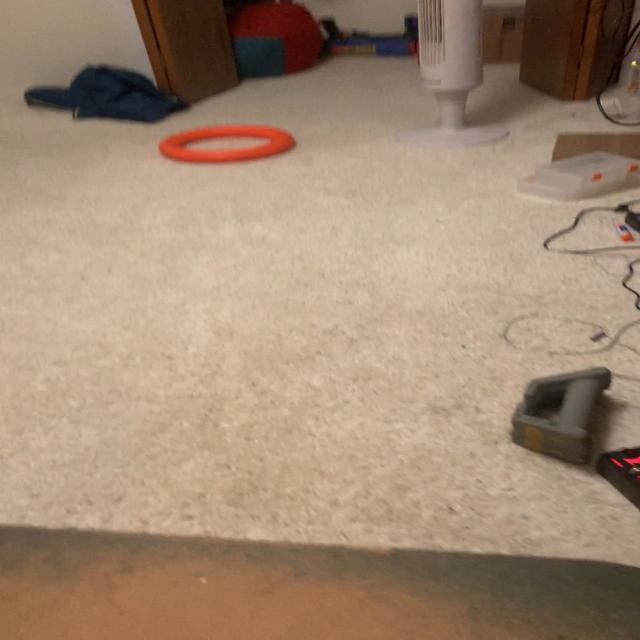notes: (161, 126, 293, 162)
